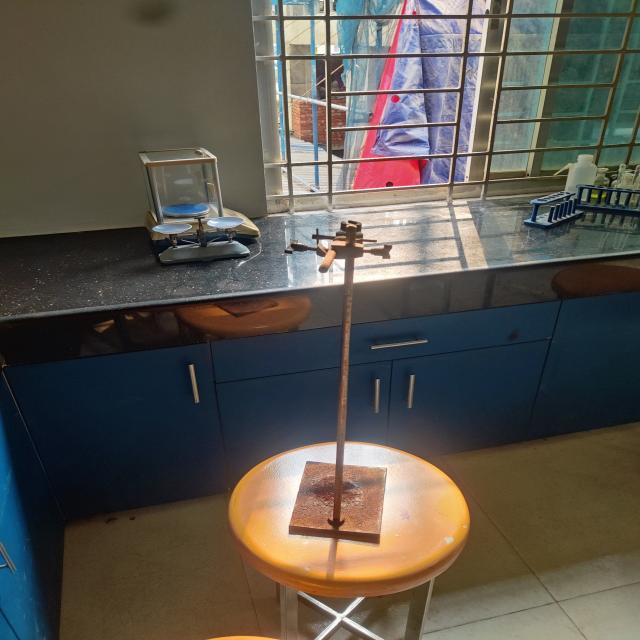Burette_Stands: (265, 198, 420, 562)
